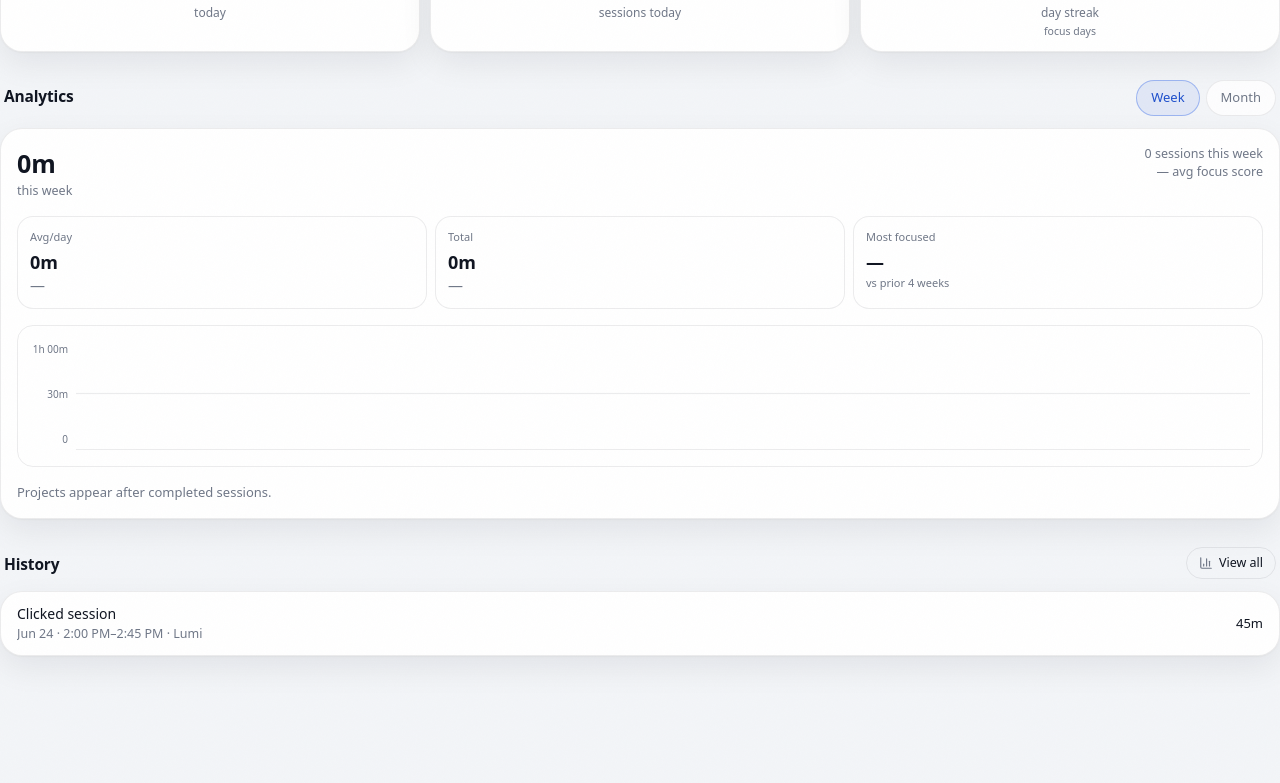
Test: FocusPage › opens session details instead of history when a history row is clicked
(page scrolled)
Step 1. Click the button "Clicked session Jun 24 · 2:00 PM–2:45 PM · Lumi 45m" → click(67, 613), box [1, 592, 1279, 654]
(page scrolled)
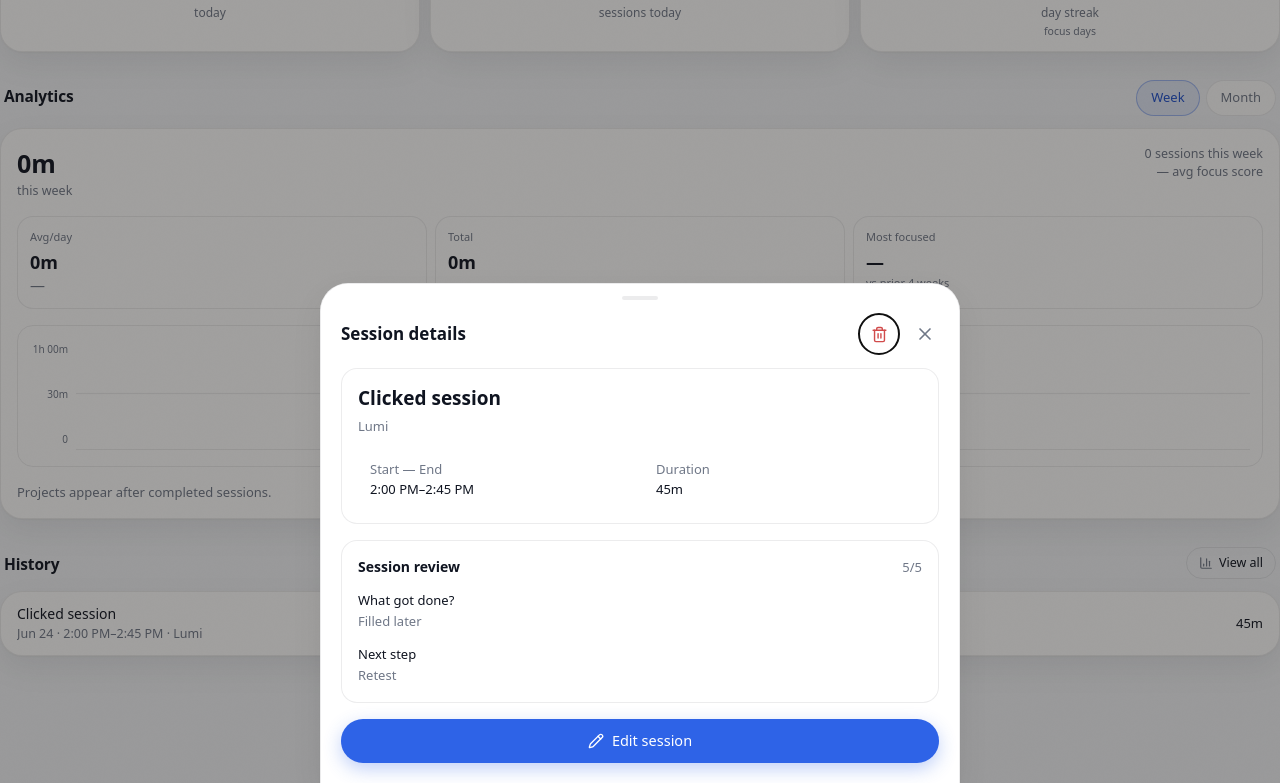
Check: the heading "Session details" is shown, box [341, 322, 466, 346]
Check: the text "Filled later" is shown, box [358, 612, 422, 630]
